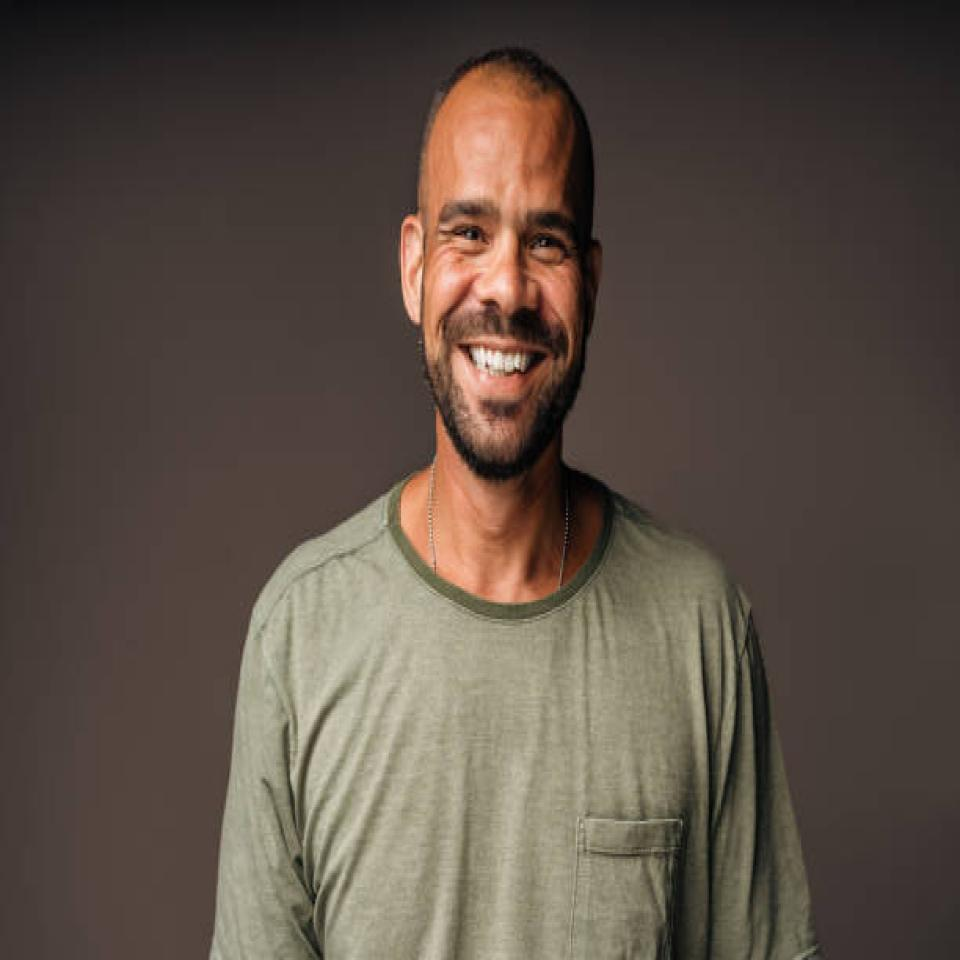Happiness: (422, 97, 589, 481)
